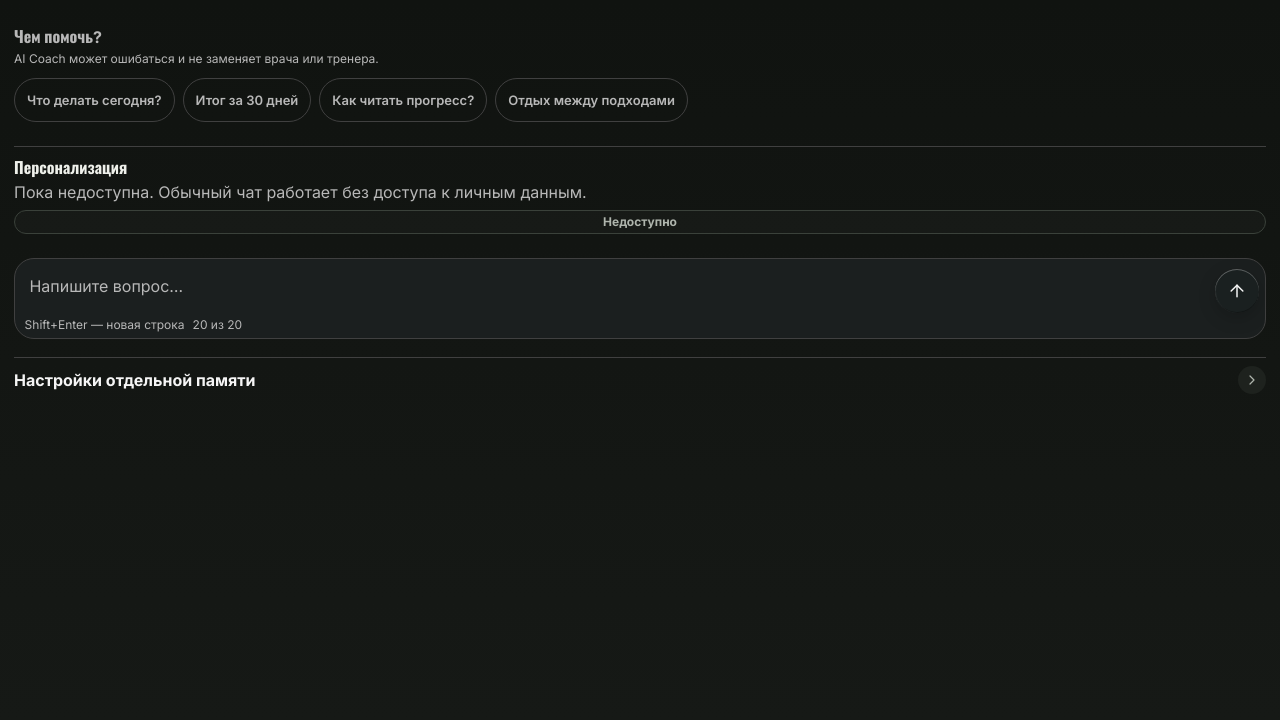
AiCoachExperience › renders the server-owned quota, refreshes it on focus and keeps the real limit dynamic
This screenshot has width=1280, height=720.
Type "Что делать сегодня?" into the text box named "Сообщение AI Coach".
click(614, 289); type("Что делать сегодня?")  # box x1=21 y1=265 x2=1207 y2=313
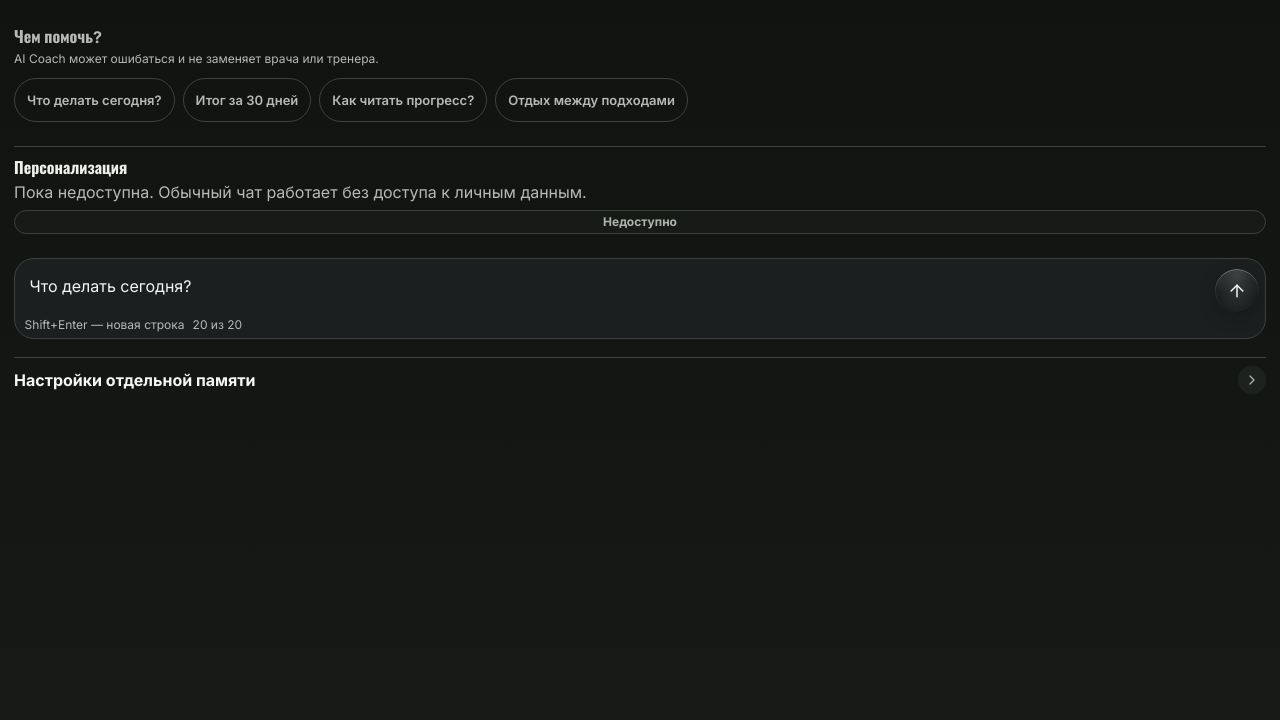
Click the button named "Отправить".
click(1237, 291)  # box x1=1215 y1=269 x2=1259 y2=313
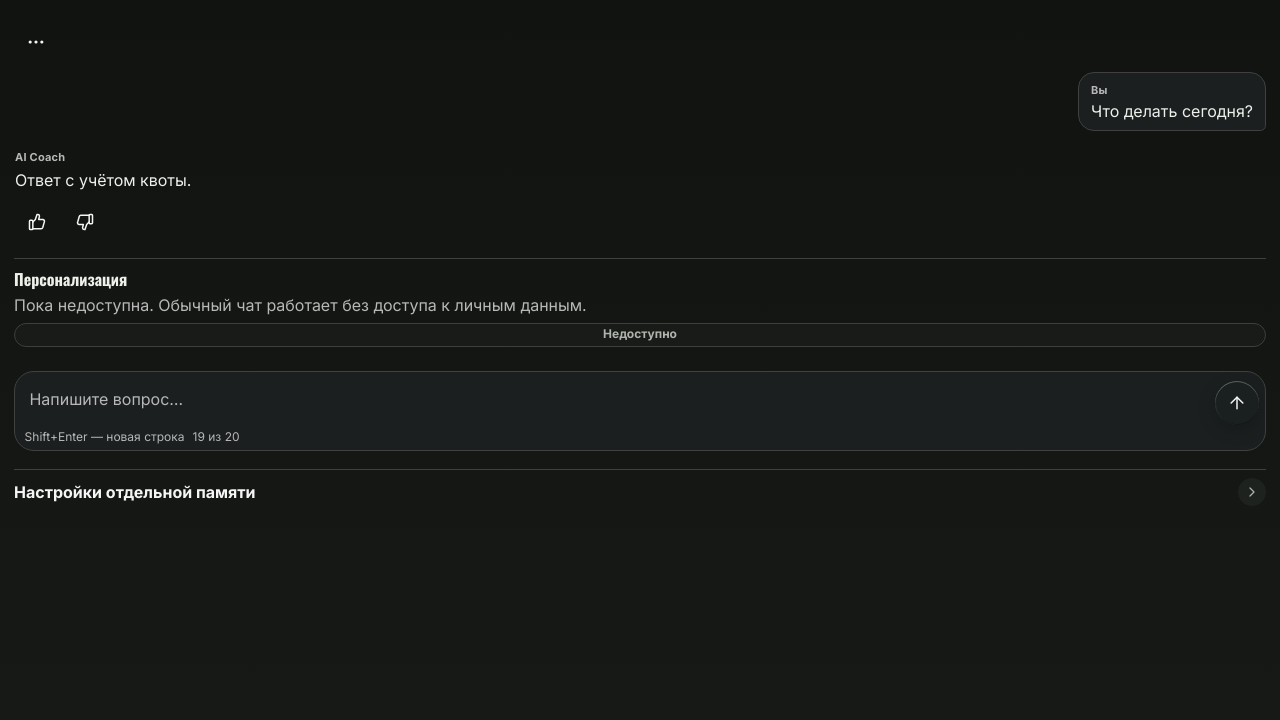
Expected: the text "Ответ с учётом квоты." is shown, x1=15 y1=170 x2=191 y2=190
